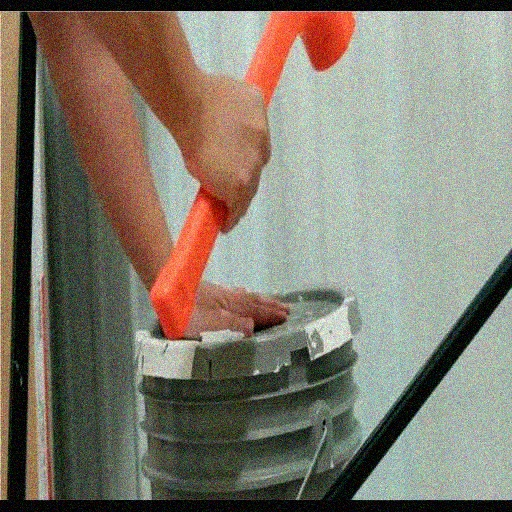mallet: (149, 12, 355, 341)
